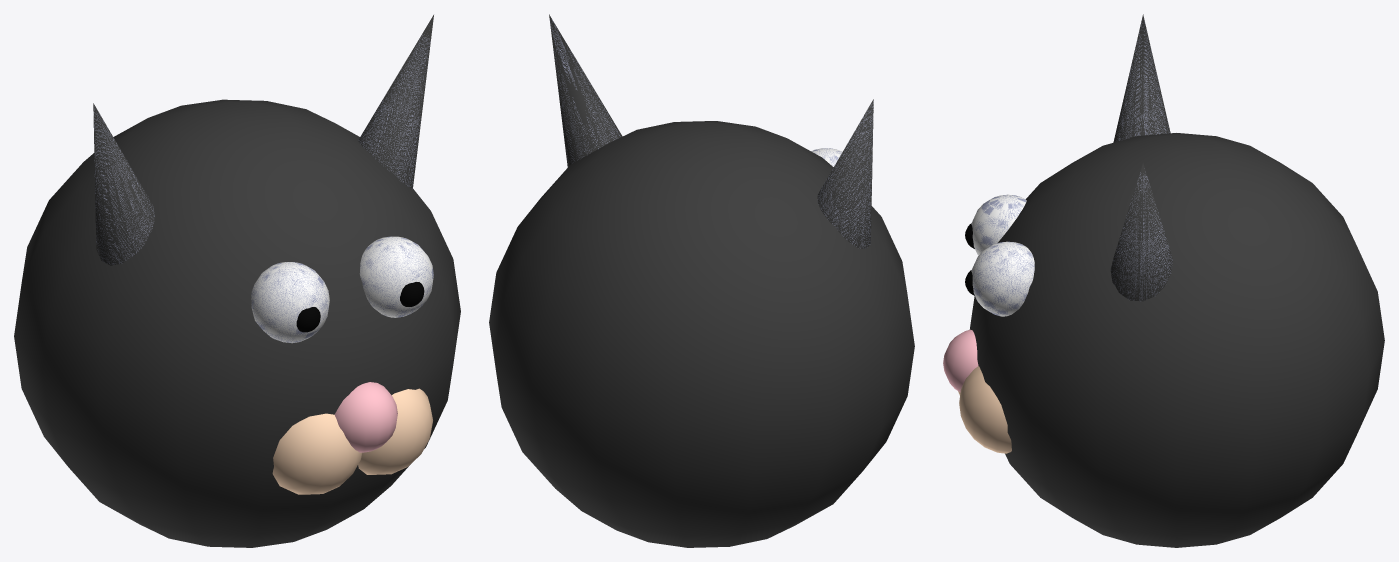
Rendered from Cate.fbx.
3 views of the same model, side by side, from view 1: azimuth 30°, elevation 25°; view 2: azimuth 150°, elevation 25°; view 3: azimuth 270°, elevation 25° (orthographic). The views are drawn at different scales.
Parts seen in each view (by area): view 1: sphere, Model, sphere1, sphere3, sphere4, sphere2, sphere5; view 2: sphere, Model; view 3: sphere, Model, sphere4, sphere2, sphere3, sphere5.
Part boxes in pixels (x1=…): sphere: x1=14, y1=99, x2=460, y2=547; Model: x1=93, y1=15, x2=433, y2=265; sphere1: x1=272, y1=413, x2=362, y2=494; sphere3: x1=251, y1=262, x2=329, y2=343; sphere4: x1=359, y1=236, x2=433, y2=317; sphere2: x1=358, y1=388, x2=432, y2=474; sphere5: x1=334, y1=382, x2=397, y2=452; sphere: x1=489, y1=121, x2=914, y2=547; Model: x1=549, y1=14, x2=873, y2=248; sphere: x1=969, y1=133, x2=1384, y2=547; Model: x1=1110, y1=14, x2=1172, y2=301; sphere4: x1=971, y1=241, x2=1034, y2=316; sphere2: x1=959, y1=366, x2=1011, y2=453; sphere3: x1=971, y1=194, x2=1026, y2=255; sphere5: x1=943, y1=329, x2=978, y2=392.
Bounding box in the file's own units: 143 × 170 × 152.
